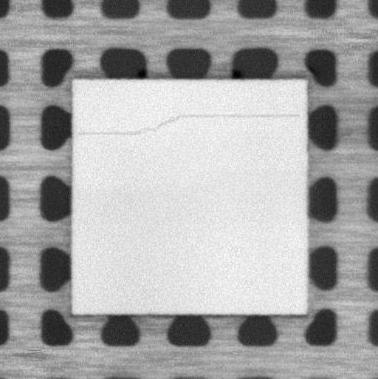DIE_CRACK: (79, 111, 299, 137)
